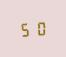five: (19, 20, 32, 37)
zero: (33, 19, 46, 36)
